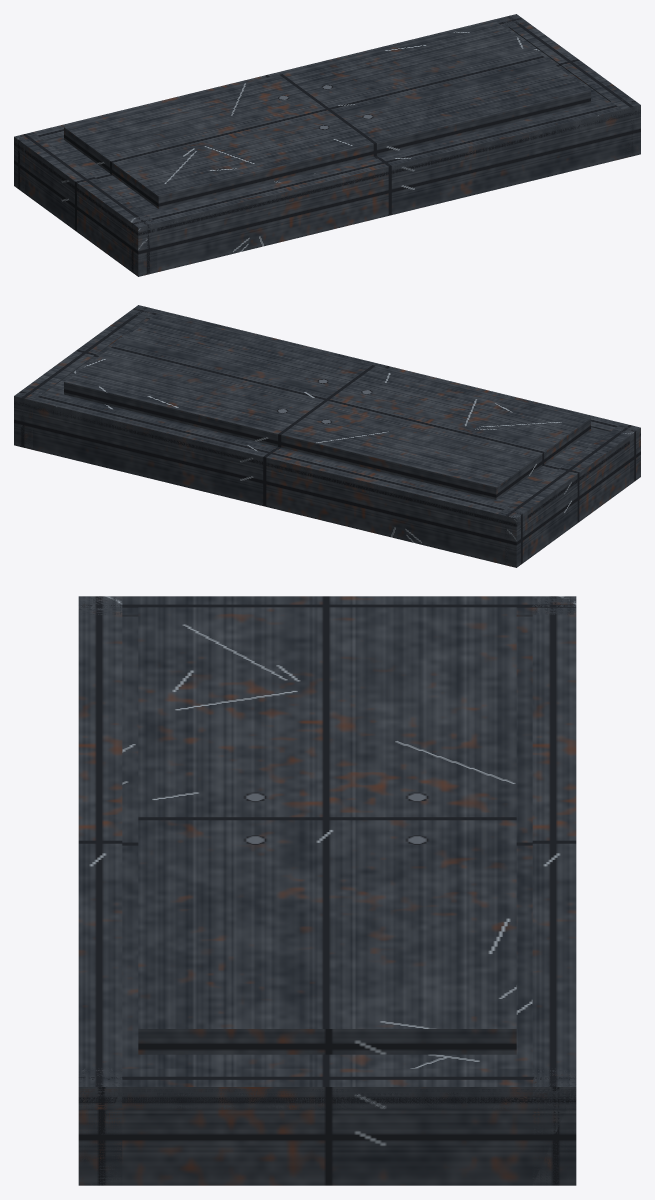
Rendered from small-fluorescent-lamp-02.glb.
The picture shows the model from 3 angles, top to bottom: view 1: azimuth 30°, elevation 25°; view 2: azimuth 150°, elevation 25°; view 3: azimuth 270°, elevation 25°; orthographic projection. The views are drawn at different scales.
Parts seen in each view (by area): view 1: panel_luz_chico; view 2: panel_luz_chico; view 3: panel_luz_chico.
Part boxes in pixels (left/top/right/bottom): panel_luz_chico: left=14, top=14, right=640, bottom=276; panel_luz_chico: left=14, top=305, right=640, bottom=567; panel_luz_chico: left=78, top=596, right=576, bottom=1185.
Bounding box in the file's own units: 1.12 × 0.13 × 0.48.
4 materials, 2 textured.
